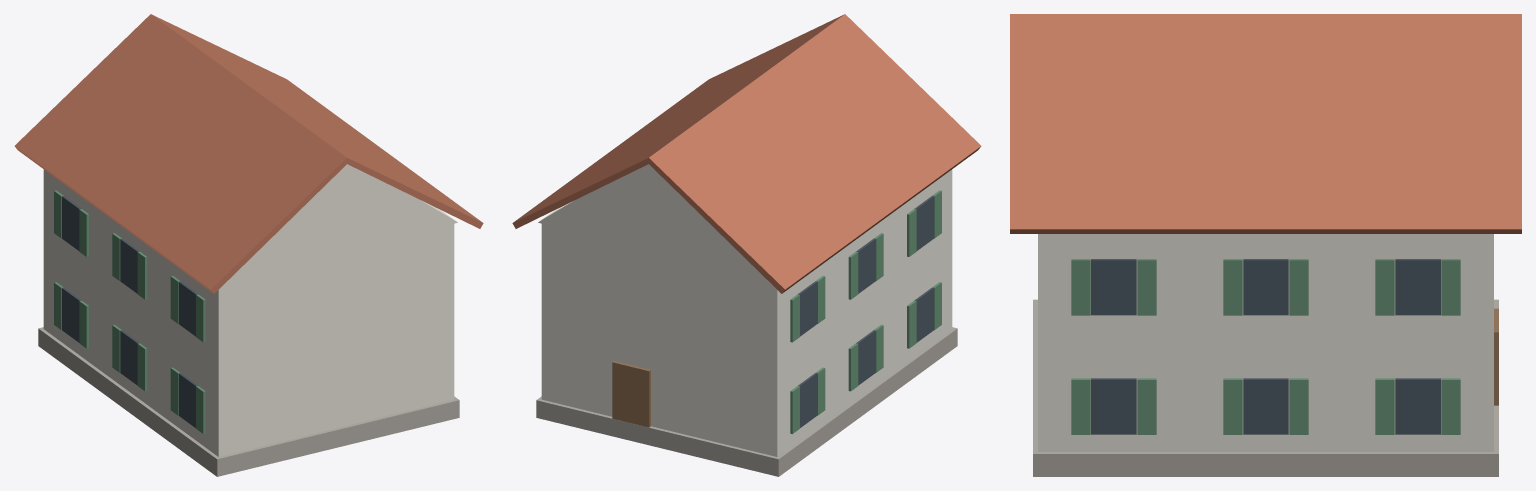
File: houseB.glb
The picture shows the model from 3 angles, left to right: view 1: azimuth 30°, elevation 25°; view 2: azimuth 150°, elevation 25°; view 3: azimuth 270°, elevation 25°; orthographic projection. The views are drawn at different scales.
Parts seen in each view (by area): view 1: HouseWalls, HouseRoof, HouseGable, HouseBase, HouseWin.001, HouseWin, HouseWin.002, HouseWin.006, HouseWin.007, HouseWin.008; view 2: HouseWalls, HouseRoof, HouseGable, HouseBase, HouseDoor, HouseWin.001, HouseWin, HouseWin.002, HouseWin.007, HouseWin.008, HouseWin.006; view 3: HouseRoof, HouseWalls, HouseBase, HouseWin.003, HouseWin.004, HouseWin.005, HouseWin.009, HouseWin.010, HouseWin.011, HouseSh.006, HouseSh.007, HouseSh.008 (+9 smaller).
Part boxes in pixels (x1=…): HouseWalls: x1=43, y1=169, x2=454, y2=456; HouseRoof: x1=14, y1=14, x2=483, y2=293; HouseGable: x1=231, y1=164, x2=457, y2=277; HouseBase: x1=38, y1=327, x2=459, y2=476; HouseWin.001: x1=120, y1=330, x2=139, y2=385; HouseWin: x1=178, y1=373, x2=197, y2=427; HouseWin.002: x1=62, y1=287, x2=81, y2=342; HouseWin.006: x1=178, y1=281, x2=197, y2=336; HouseWin.007: x1=120, y1=238, x2=139, y2=293; HouseWin.008: x1=62, y1=196, x2=81, y2=250; HouseWalls: x1=541, y1=169, x2=952, y2=456; HouseRoof: x1=512, y1=14, x2=981, y2=293; HouseGable: x1=538, y1=164, x2=764, y2=277; HouseBase: x1=536, y1=327, x2=957, y2=476; HouseDoor: x1=612, y1=361, x2=650, y2=427; HouseWin.001: x1=856, y1=330, x2=875, y2=385; HouseWin: x1=914, y1=287, x2=933, y2=342; HouseWin.002: x1=798, y1=373, x2=817, y2=427; HouseWin.007: x1=856, y1=238, x2=875, y2=293; HouseWin.008: x1=798, y1=281, x2=817, y2=336; HouseWin.006: x1=914, y1=196, x2=933, y2=250; HouseRoof: x1=1010, y1=14, x2=1521, y2=233; HouseWalls: x1=1038, y1=234, x2=1493, y2=451; HouseBase: x1=1033, y1=299, x2=1498, y2=476; HouseWin.003: x1=1091, y1=378, x2=1136, y2=434; HouseWin.004: x1=1243, y1=378, x2=1288, y2=434; HouseWin.005: x1=1395, y1=378, x2=1440, y2=434; HouseWin.009: x1=1091, y1=259, x2=1136, y2=315; HouseWin.010: x1=1243, y1=259, x2=1288, y2=315; HouseWin.011: x1=1395, y1=259, x2=1440, y2=315; HouseSh.006: x1=1071, y1=378, x2=1090, y2=434; HouseSh.007: x1=1137, y1=378, x2=1156, y2=434; HouseSh.008: x1=1223, y1=378, x2=1242, y2=434.
Size of the model in its own units: 8.1 by 8.4 by 10.1.
